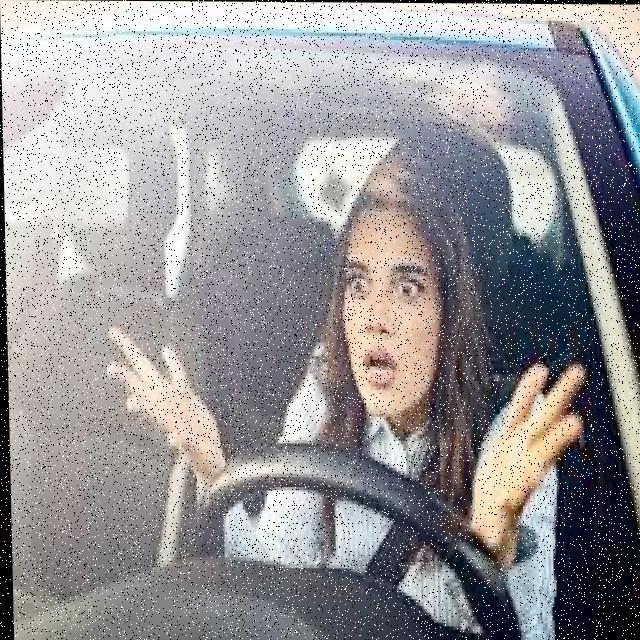seatbelt: (293, 348, 537, 600)
